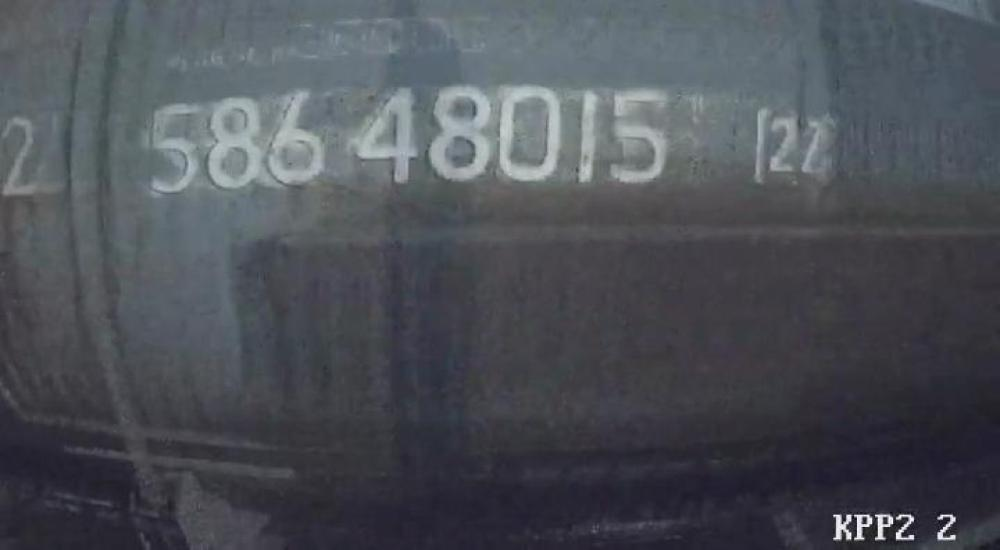Wagon-number: (145, 84, 676, 199)
